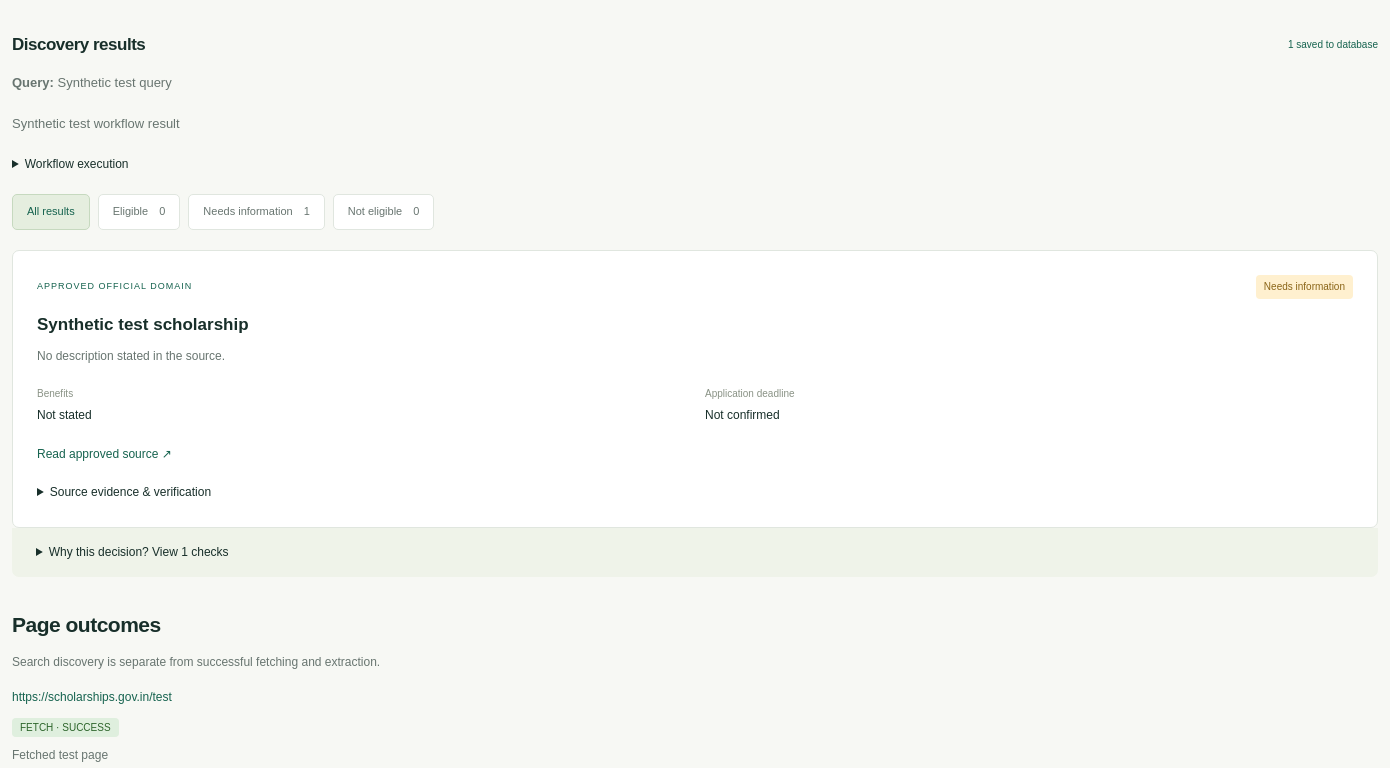
it: Evidence and eligibility results › shows an explicit empty category when filtering
Step 1. Click the button "Eligible 0" → (139, 212), box [98,194,180,230]
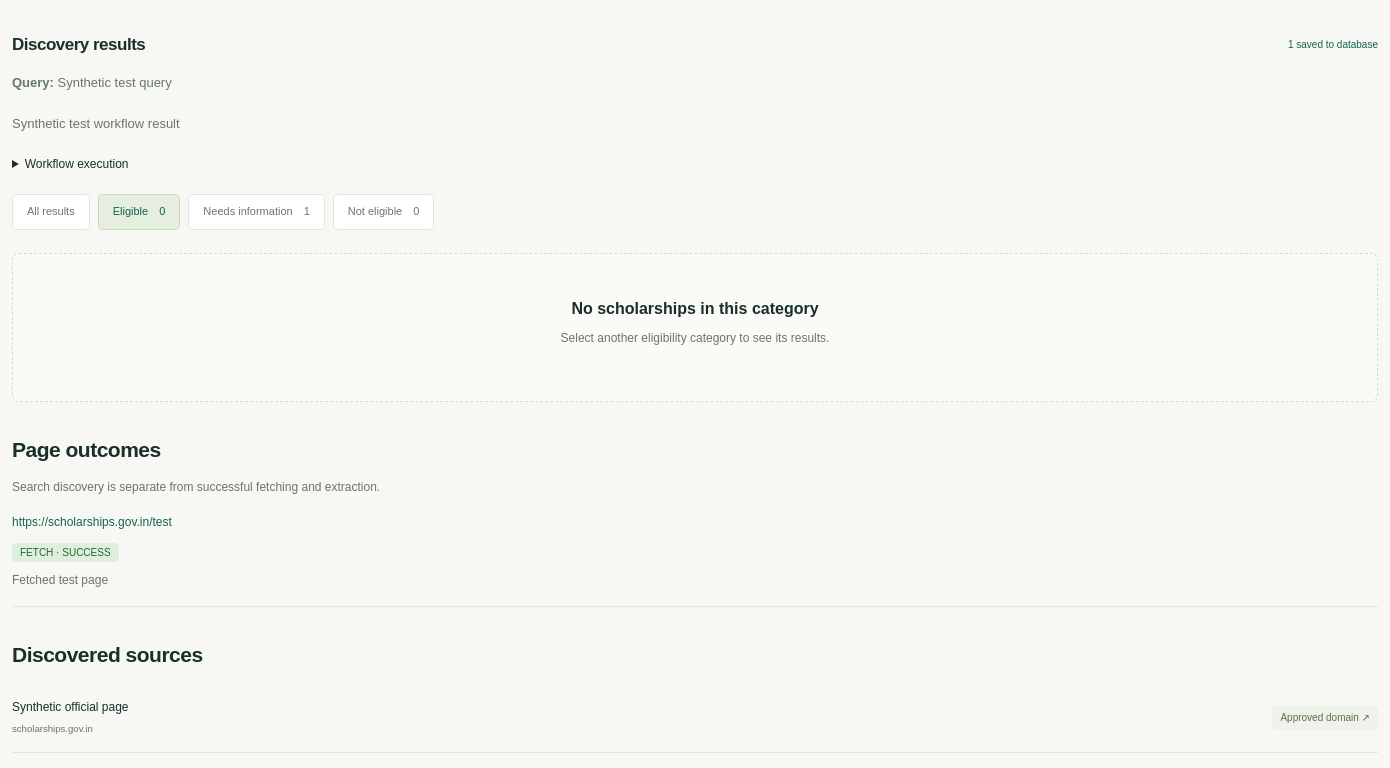
Expected: the heading "No scholarships in this category" is shown, [571,300,819,317]
Step 2. Click the button "Needs information 1" → (257, 212), box [188,194,325,230]
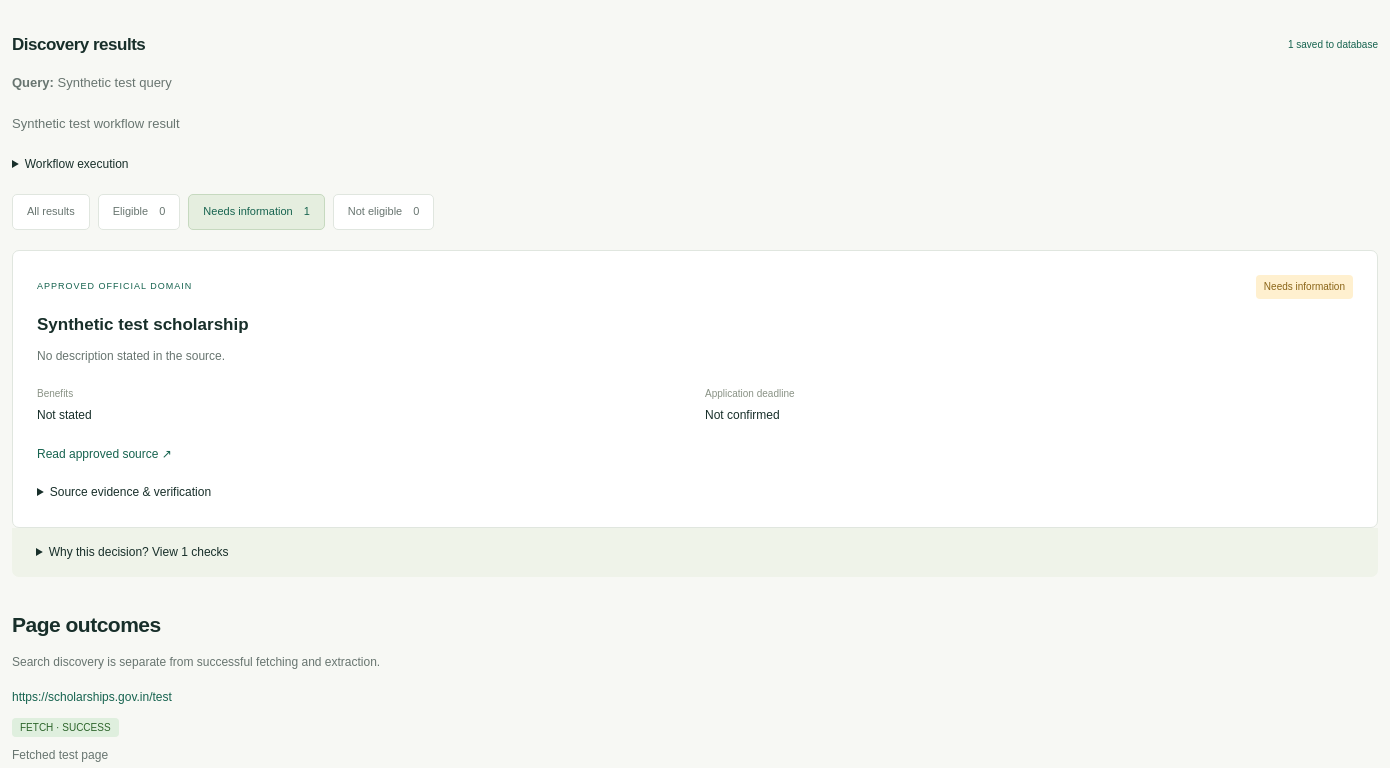
Expected: the heading "Synthetic test scholarship" is shown, [37,315,249,334]
